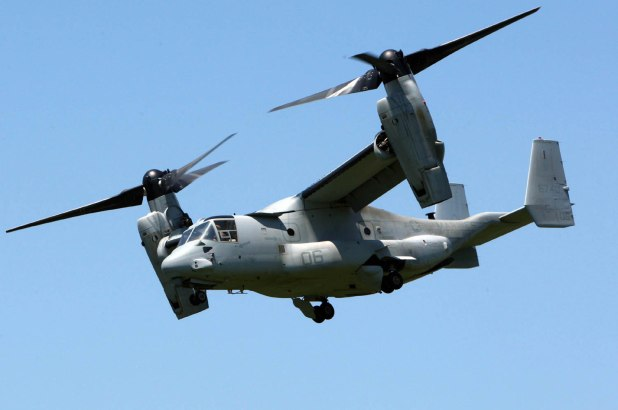MilitaryHelicopter: (91, 52, 523, 332)
